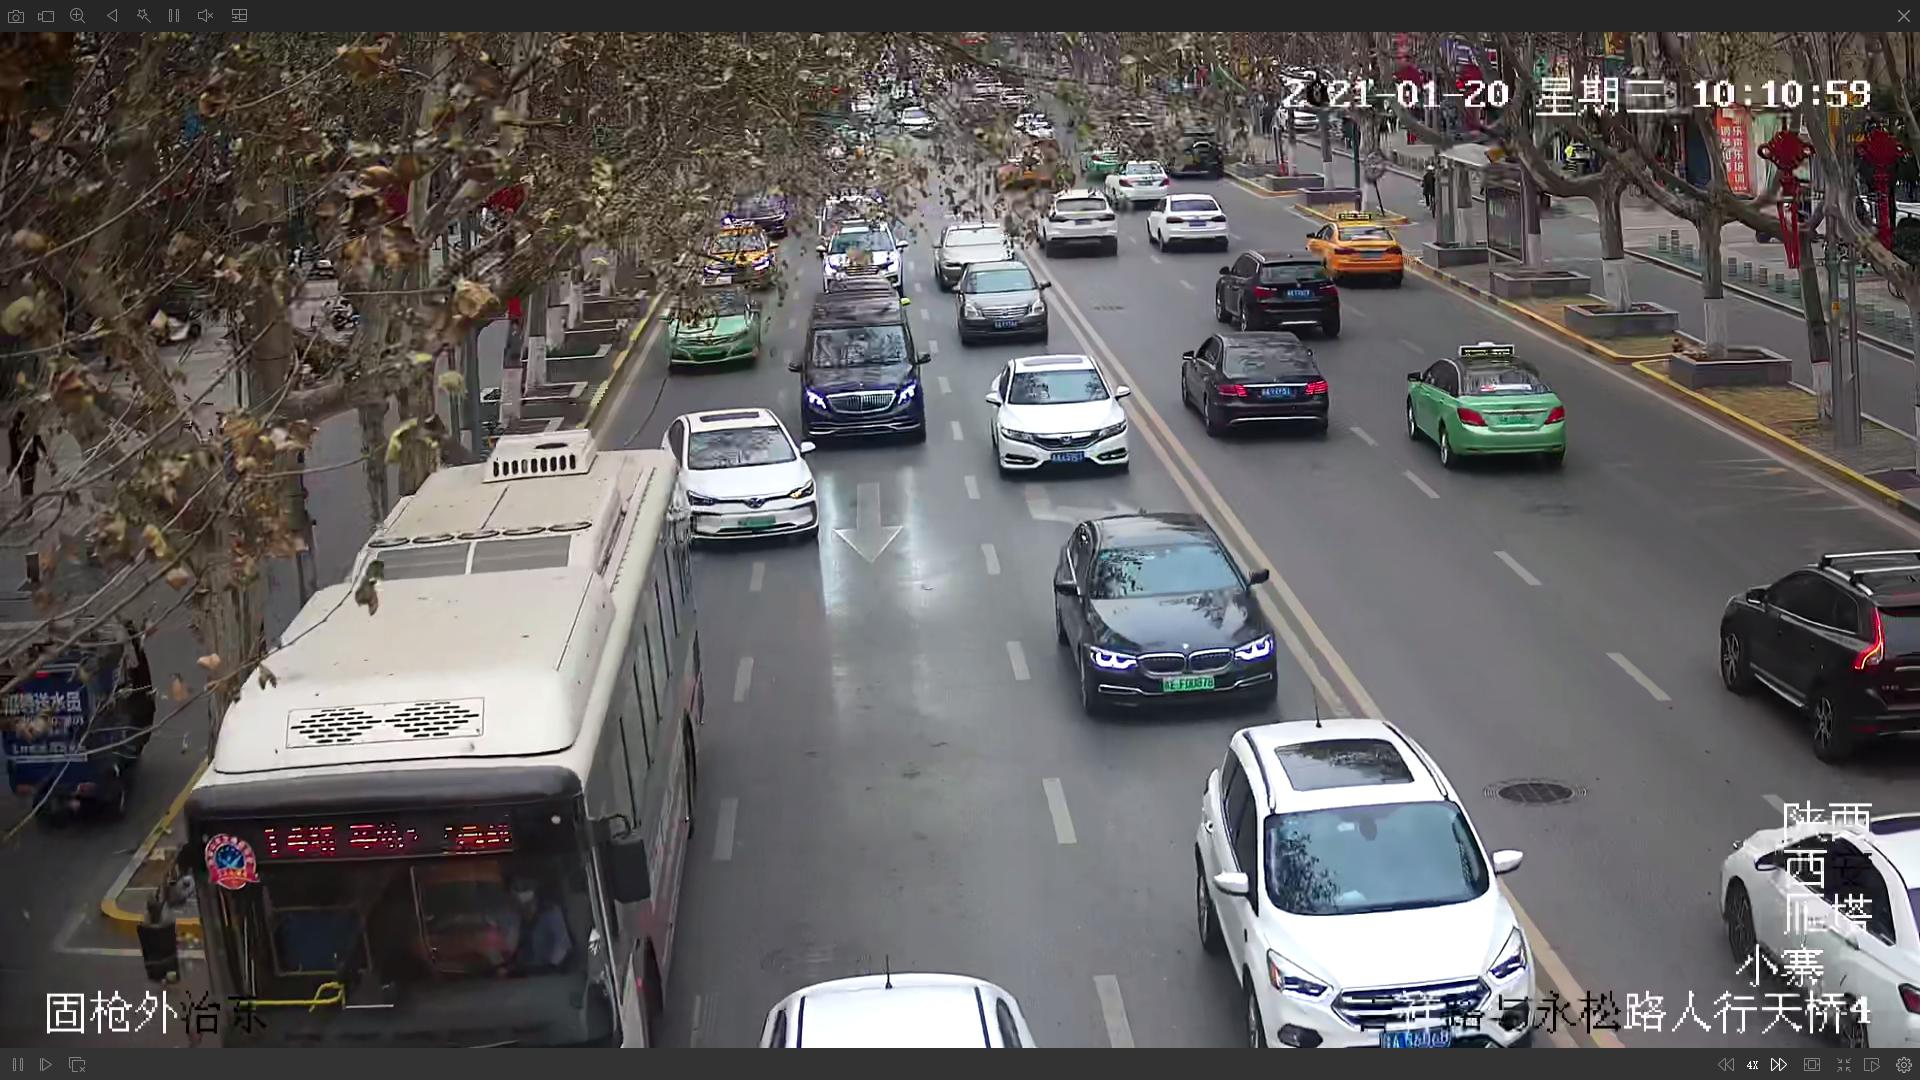black: (1054, 512, 1275, 712)
white: (1197, 728, 1534, 1034), (994, 353, 1131, 469)
